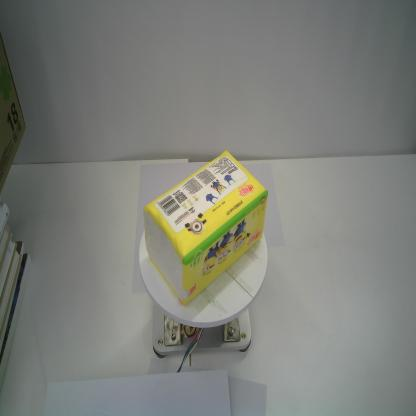Tissue: (140, 148, 269, 305)
